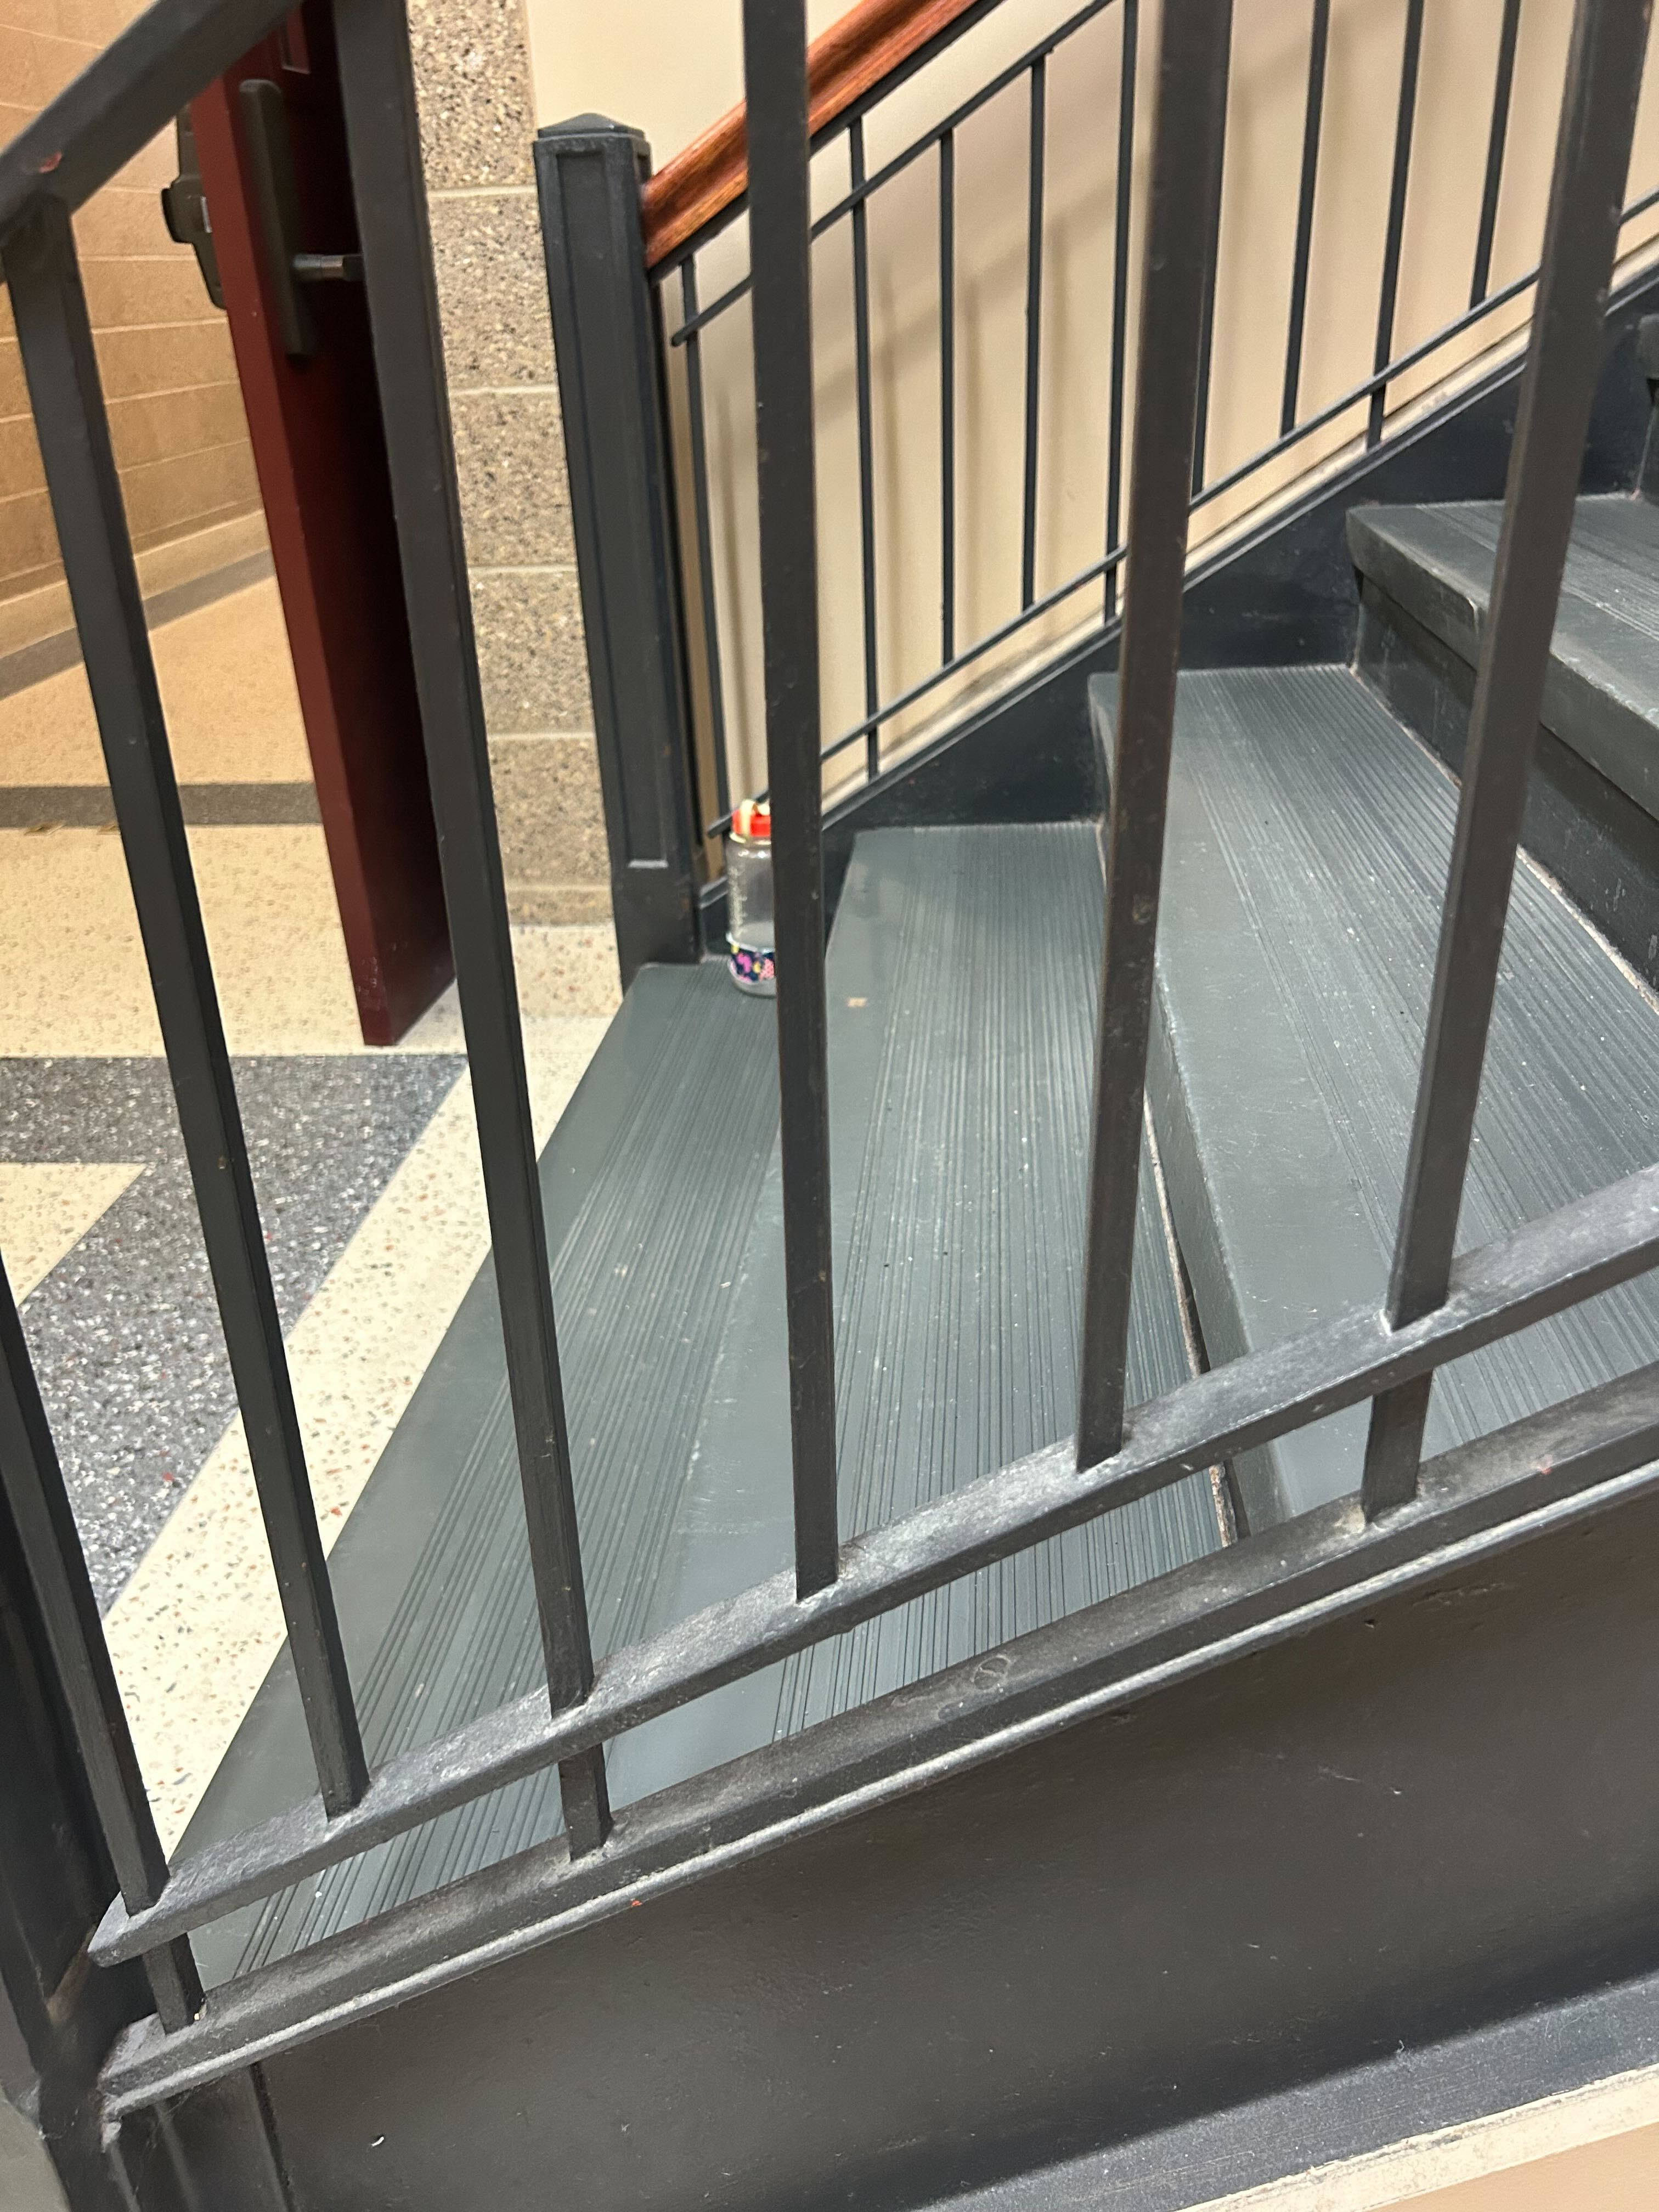bottle: (725, 791, 781, 1003)
